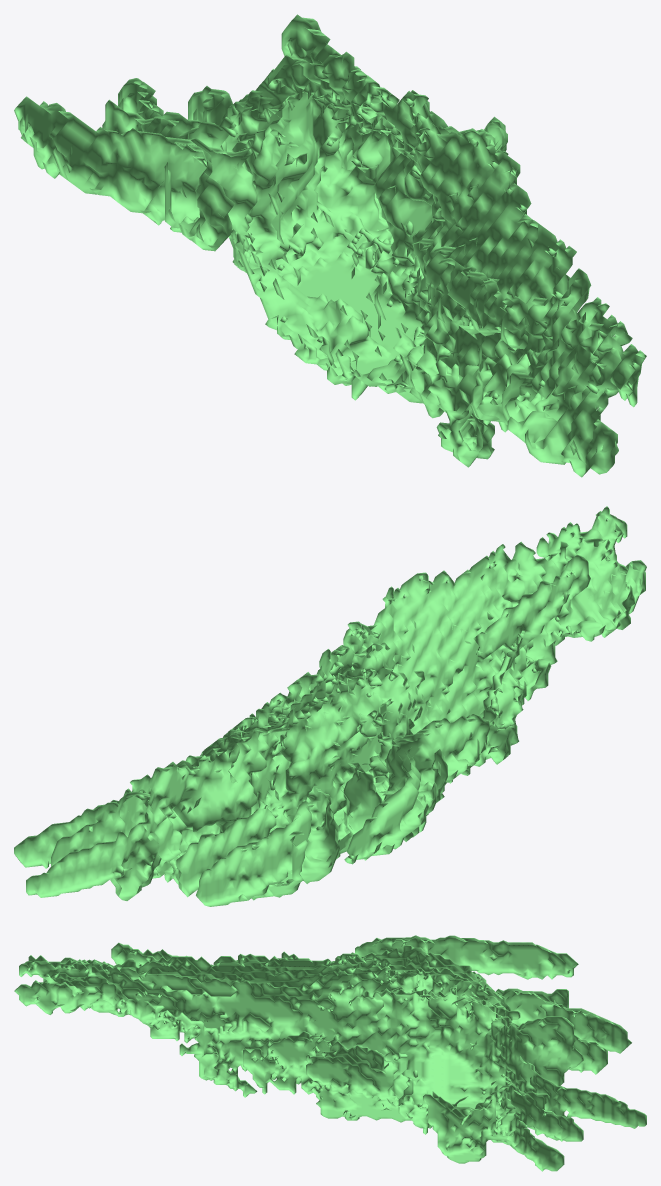
File: osteocyte_33.glb
3 renders of one model, top to bottom at view 1: azimuth 30°, elevation 25°; view 2: azimuth 150°, elevation 25°; view 3: azimuth 270°, elevation 25°, orthographic. The views are drawn at different scales.
Visible parts, largest first — view 1: osteocyte_33; view 2: osteocyte_33; view 3: osteocyte_33.
Part boxes in pixels (x1,y1,x2,y2): osteocyte_33: (14, 14, 646, 477); osteocyte_33: (14, 506, 646, 906); osteocyte_33: (14, 935, 646, 1171).
Bounding box in the file's own units: 31.78 × 17.33 × 62.59.
